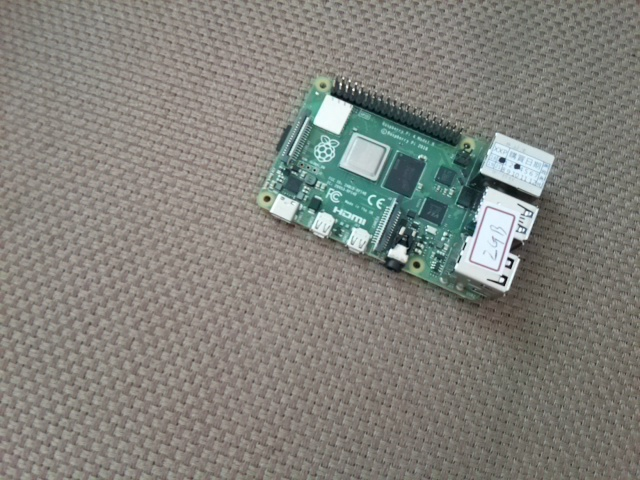Pi4: (249, 69, 559, 307)
